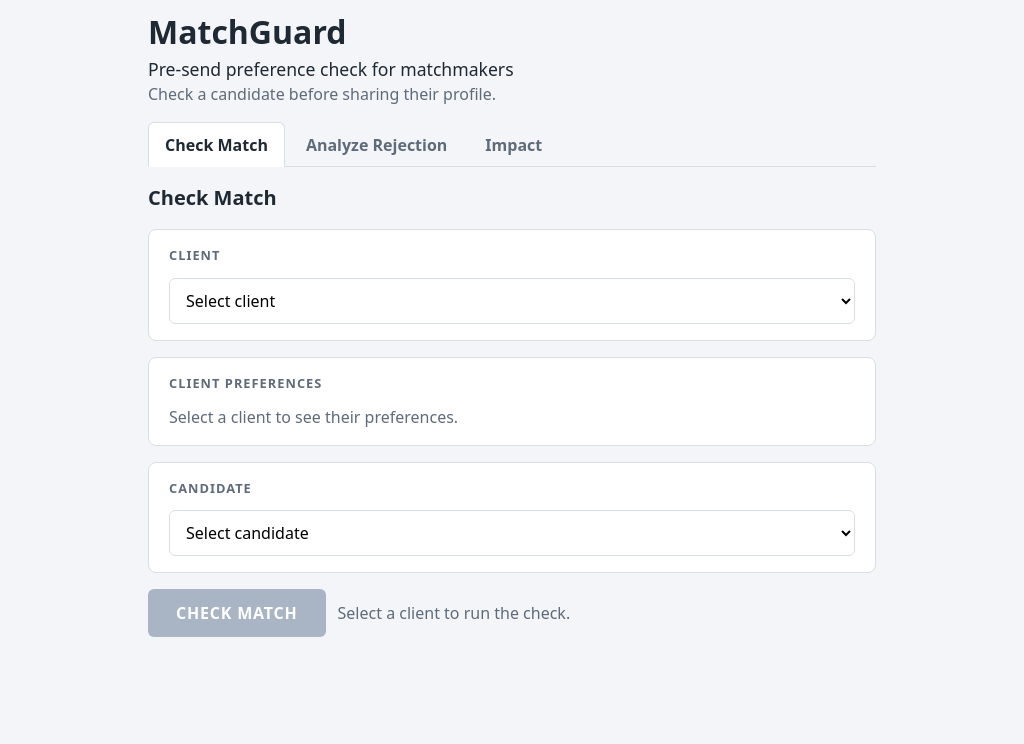
it: Analyze Rejection mode › renders every structured reason
The image size is (1024, 744).
Click the tab "Analyze Rejection".
click(377, 145)  # box [289, 122, 464, 167]
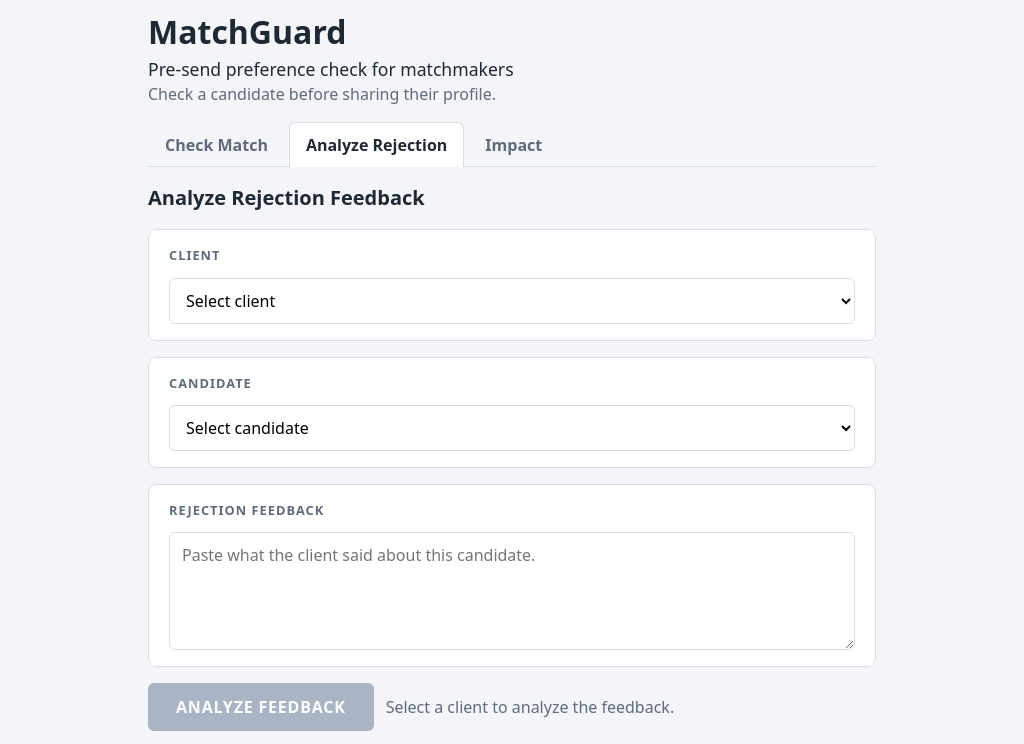
Select "Rahul" in the dropdown labelled "Client" at [512, 301], box [169, 278, 855, 324]
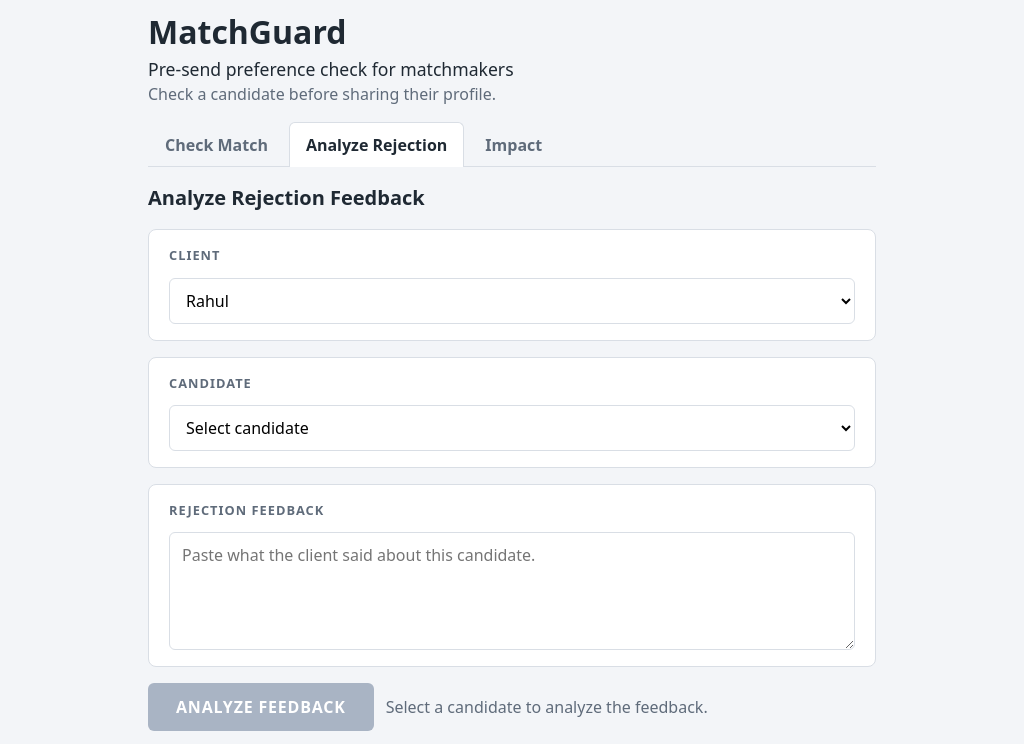
Select "Ishita — 29 · Delhi NCR" in the dropdown labelled "Candidate" at [512, 428], box [169, 405, 855, 451]
(page scrolled)
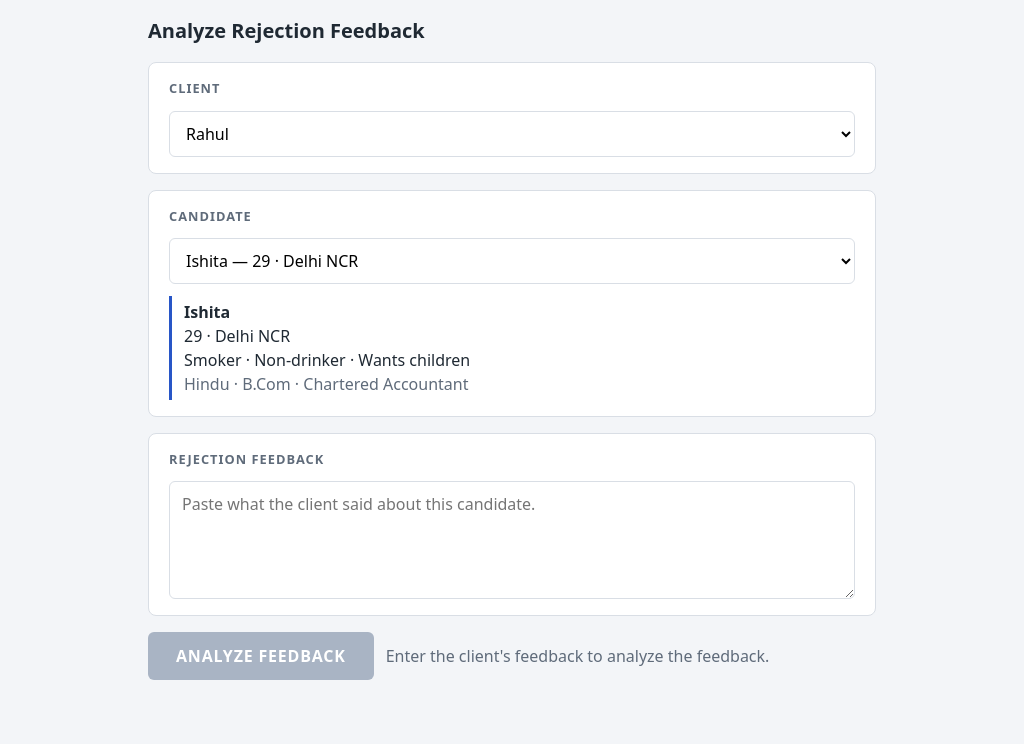
Type "Great profile, but I don't want someone who smokes and I can't move to Bangalore." into the text box labelled "Rejection feedback".
click(512, 540); type("Great profile, but I don't want someone who smokes and I can't move to Bangalore.")  # box [169, 481, 855, 599]
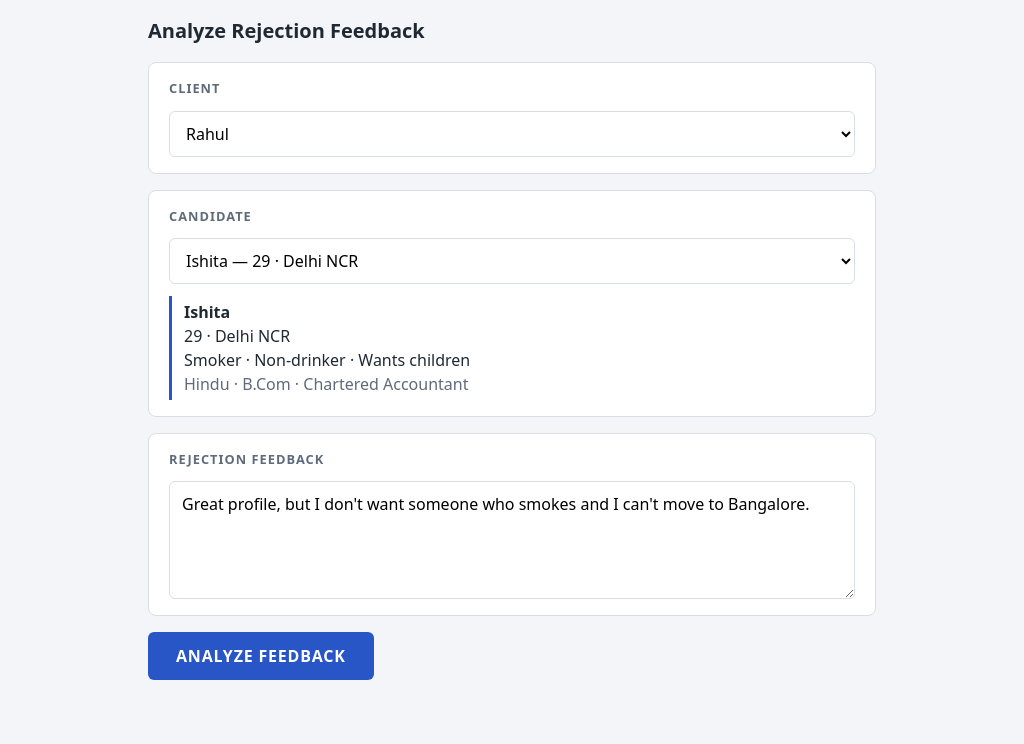
Click the button "Analyze feedback".
click(261, 656)  # box [148, 632, 374, 680]
(page scrolled)
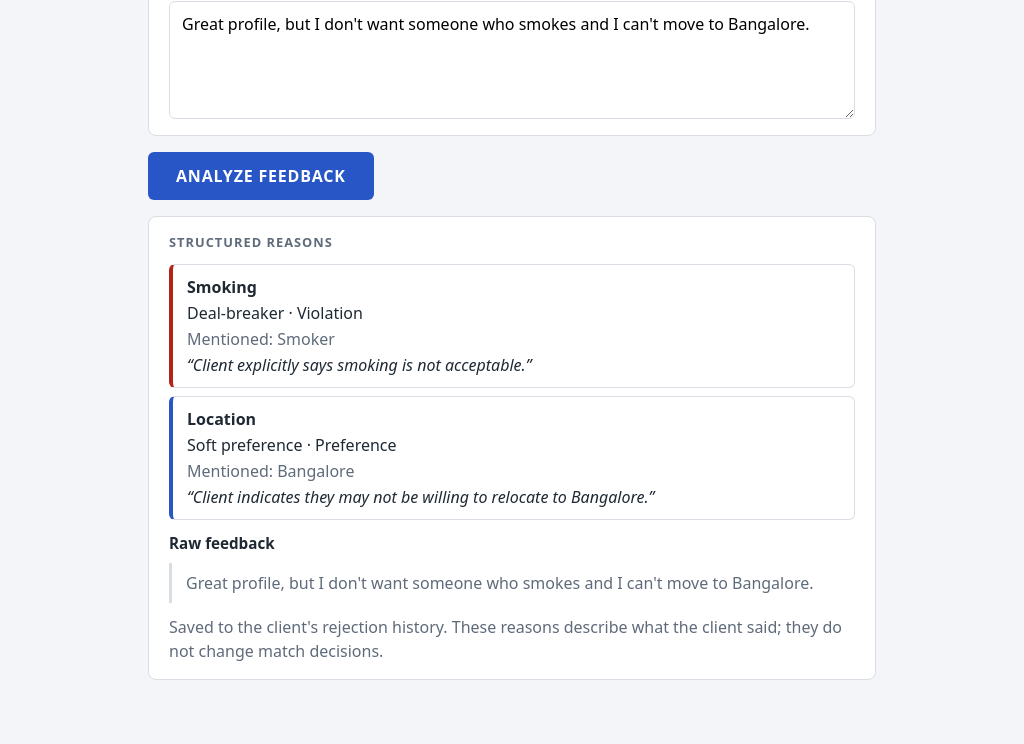
Check: the heading "Structured reasons" is shown, box [169, 233, 333, 251]
Check: the number of list items is 2, box [169, 264, 855, 388]; [169, 396, 855, 520]
Check: the text "Smoking" is shown, box [187, 276, 257, 298]
